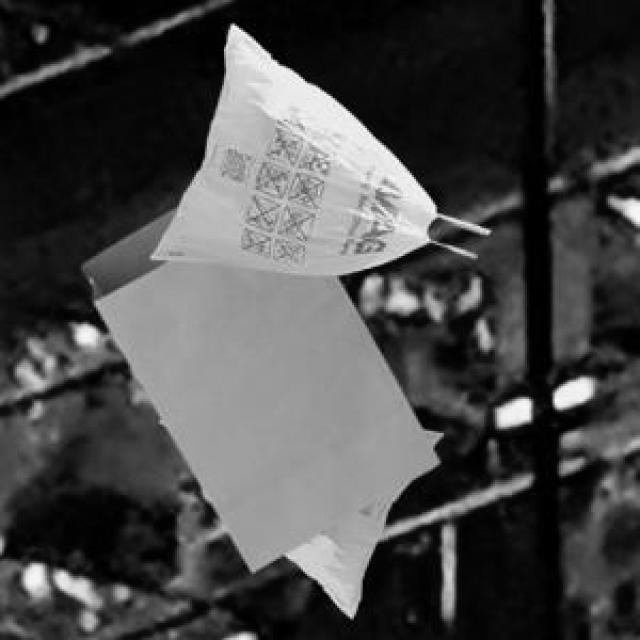paper: (79, 203, 435, 568)
